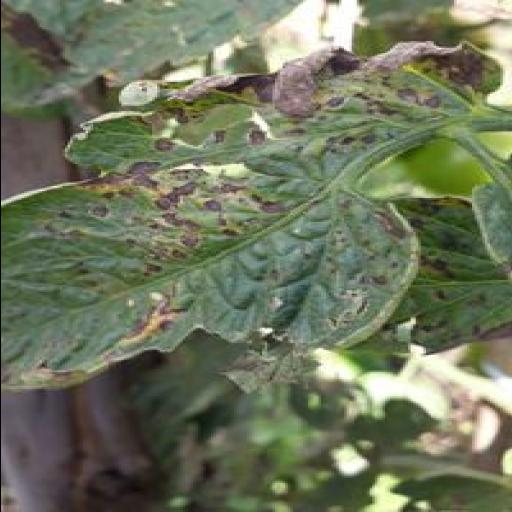disease_tomato: (0, 37, 502, 395)
